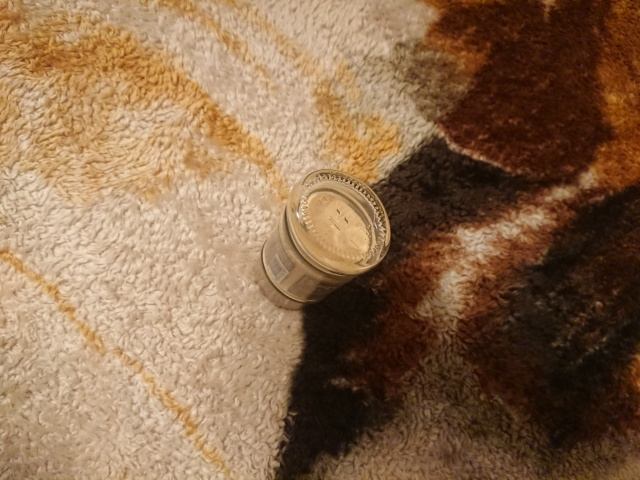Kotanyi Garlic Granules 70g: (252, 167, 393, 313)
